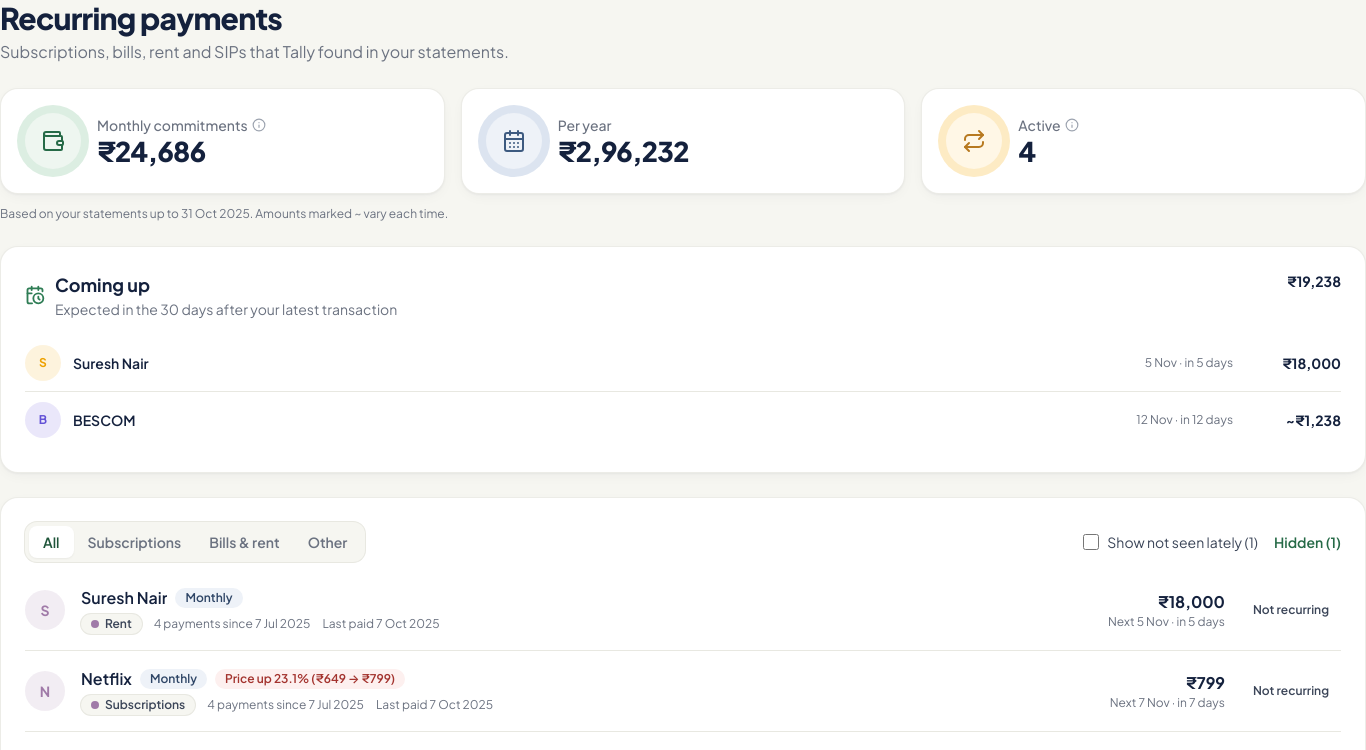
Recurring page › filters by group
Click the tab "Subscriptions" at (134, 542), box [74,526,195,558]
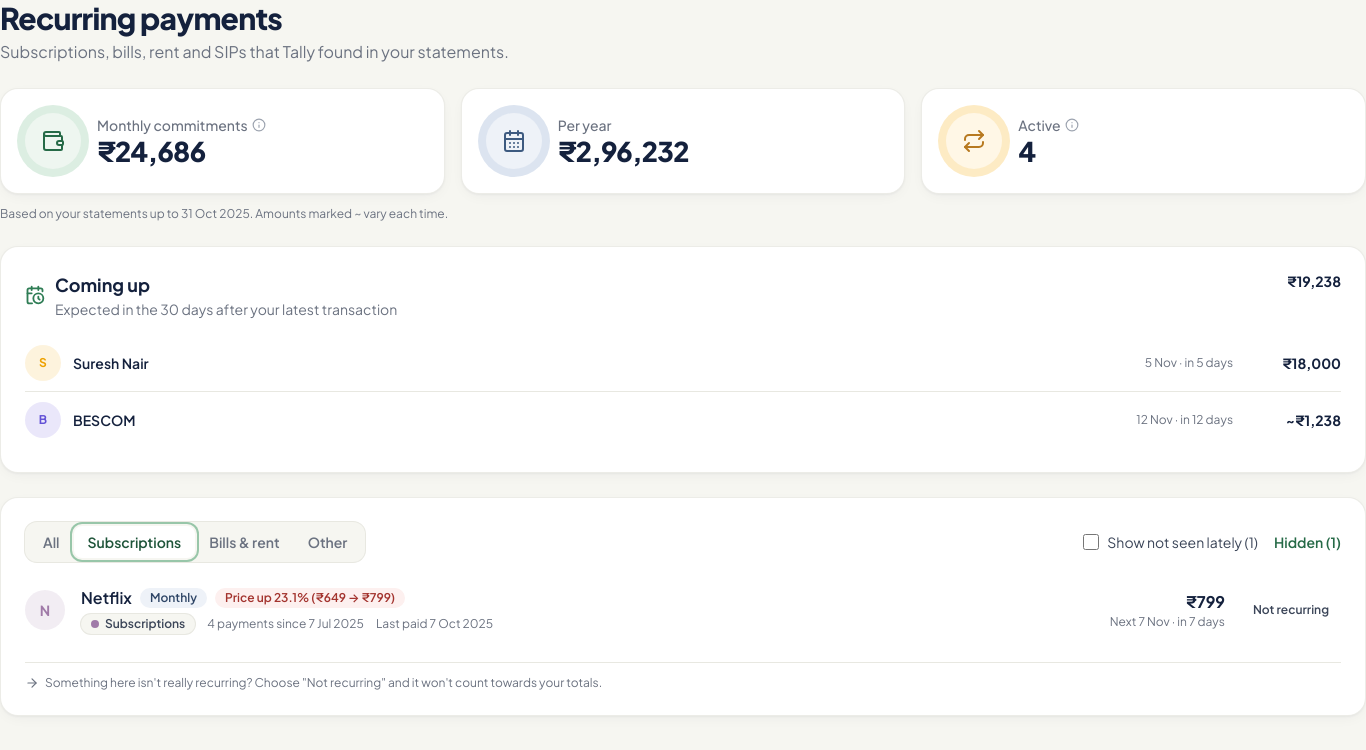
Expected: the list named "Recurring payments" shows "Netflix", [81,587,132,608]
Expected: the list named "Recurring payments" does not show "Suresh Nair", [25,587,1341,634]
Click the tab "Bills & rent" at (244, 542), box [195,526,294,558]
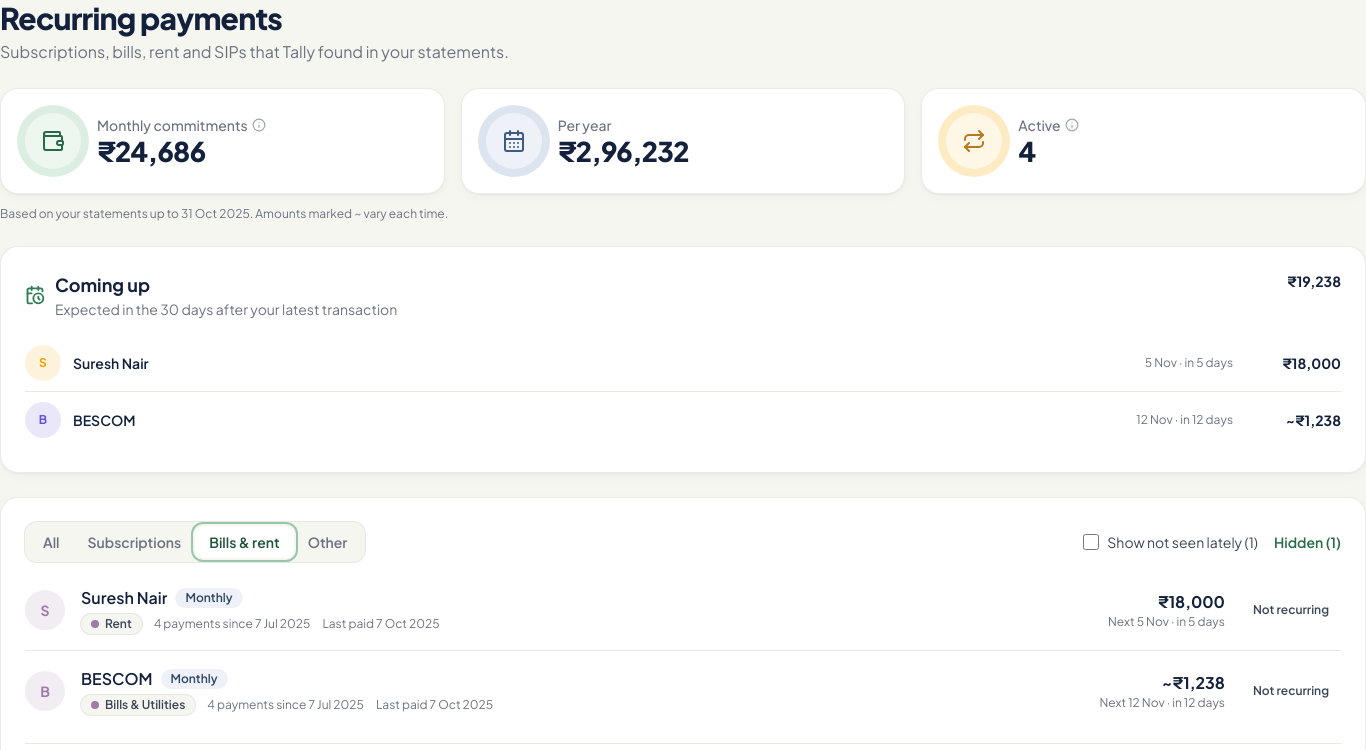
Expected: the list named "Recurring payments" shows "Suresh Nair", [81,587,168,608]
Expected: the list named "Recurring payments" shows "BESCOM", [81,668,152,689]
Expected: the list named "Recurring payments" no longer shows "Netflix", [25,570,1341,731]
Click the tab "Other" at (328, 542), box [294,526,361,558]
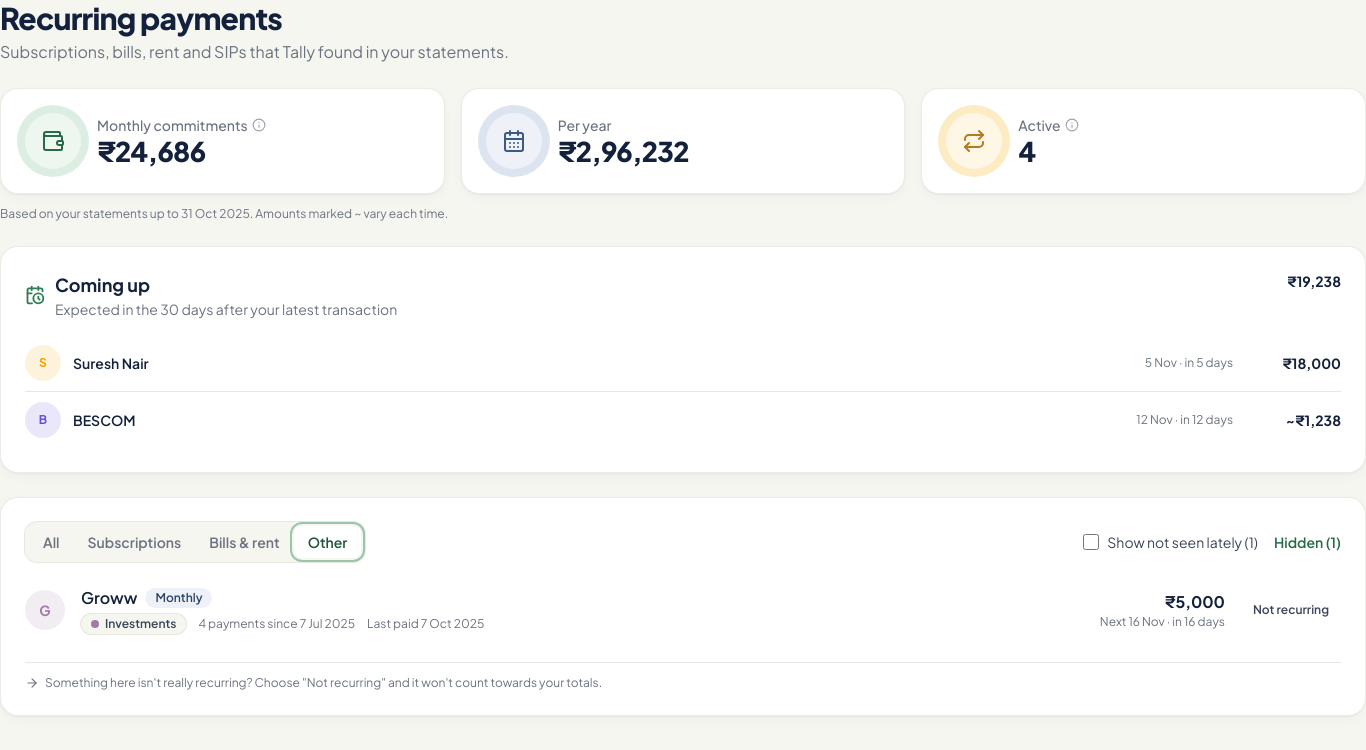
Expected: the list named "Recurring payments" shows "Groww", [81,587,138,608]
